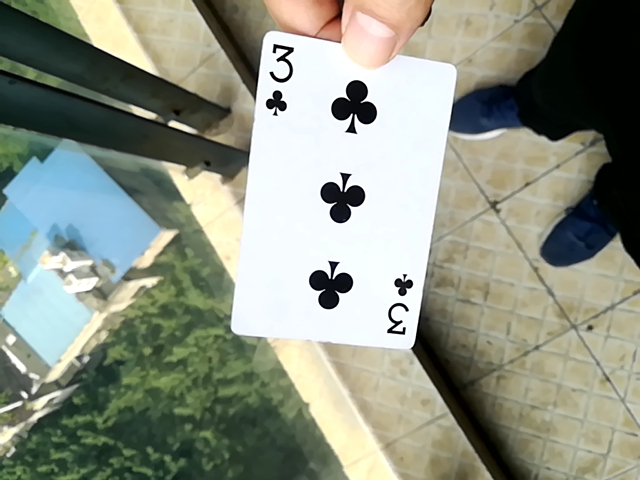mh 3: (226, 26, 458, 356)
